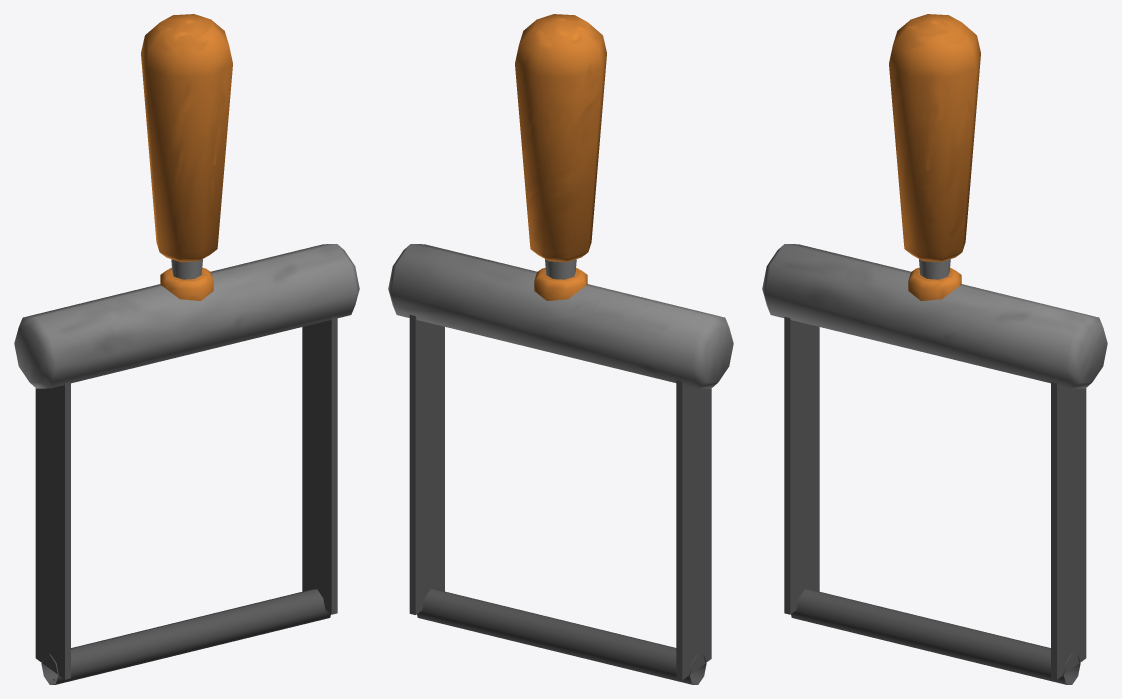
Rendered from LeverStick.fbx.
3 renders of one model, left to right at view 1: azimuth 30°, elevation 25°; view 2: azimuth 150°, elevation 25°; view 3: azimuth 330°, elevation 25°, orthographic.
Visible parts, largest first — view 1: LeverStick; view 2: LeverStick; view 3: LeverStick.
Part boxes in pixels (x1=…): LeverStick: x1=14, y1=14, x2=359, y2=684; LeverStick: x1=388, y1=14, x2=733, y2=684; LeverStick: x1=762, y1=14, x2=1107, y2=684.
Size of the model in its own units: 18.9 by 36.21 by 4.96.
Materials: 1 (1 with a texture image).
